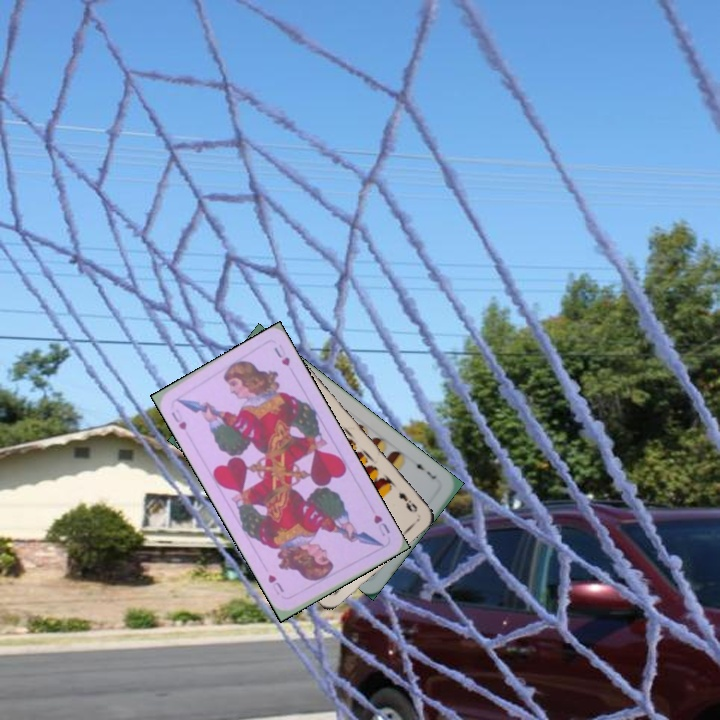E7: (410, 456, 439, 482)
E9: (394, 488, 420, 516)
HU: (370, 511, 393, 539), (167, 404, 189, 433)
